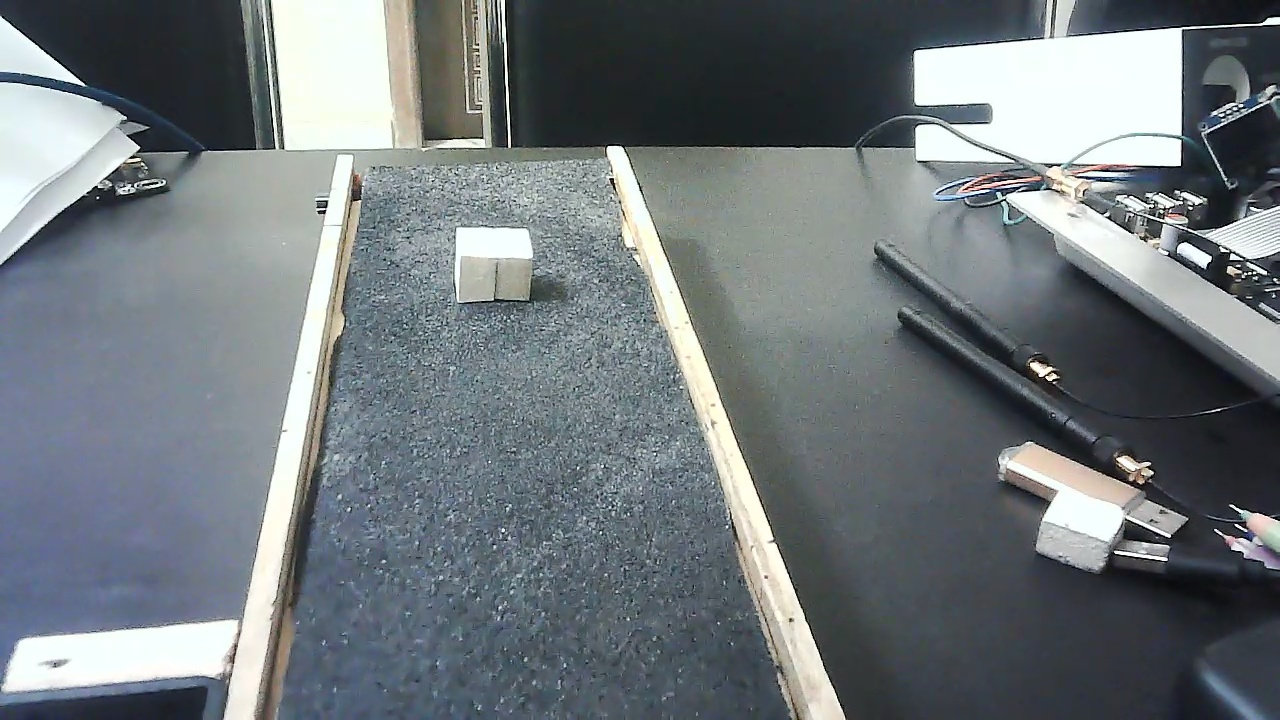Small: (455, 225, 534, 304)
